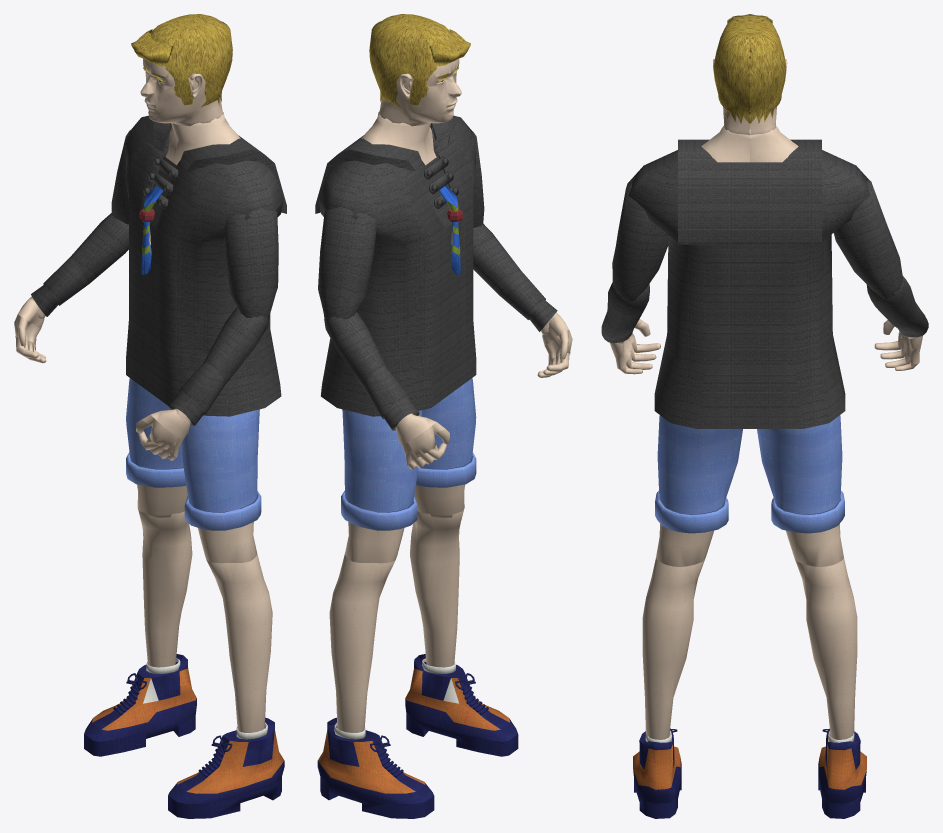
File: boy.obj
3 views of the same model, side by side, from view 1: azimuth 30°, elevation 25°; view 2: azimuth 150°, elevation 25°; view 3: azimuth 270°, elevation 25° (orthographic). The views are drawn at different scales.
Parts seen in each view (by area): view 1: Mesh90 Gruppe_154_2 Group66 Gruppe_31_2 Group55 Group1 Model, Mesh52 Gruppe_35_2 Gruppe_61_2 Group43 Group42 Group1 Model, Mesh54 Gruppe_110_2 Gruppe_60_2 Group42 Group1 Model, Mesh70 Gruppe_136_2 Group42 Group1 Model, Mesh1 Gruppe_35_1 Gruppe_61_1 Group3 Group2 Group1 Model, Mesh19 Gruppe_136_1 Group2 Group1 Model, Mesh77 Gruppe_154_1 Group56 Gruppe_31_1 Group55 Group1 Model, Mesh50 Group41 Gruppe_62_2 Group31 Group1 Model, Mesh39 Gruppe_105_2 Gruppe_30_2 Group26 Group1 Model, Mesh41 Group33 Gruppe_63_2 Group32 Group31 Group1 Model, Mesh20 Group17 Gruppe_63_1 Group16 Group15 Group1 Model, Mesh40 Gruppe_30_2 Group26 Group1 Model (+12 smaller); view 2: Mesh77 Gruppe_154_1 Group56 Gruppe_31_1 Group55 Group1 Model, Mesh1 Gruppe_35_1 Gruppe_61_1 Group3 Group2 Group1 Model, Mesh19 Gruppe_136_1 Group2 Group1 Model, Mesh52 Gruppe_35_2 Gruppe_61_2 Group43 Group42 Group1 Model, Mesh70 Gruppe_136_2 Group42 Group1 Model, Mesh3 Gruppe_110_1 Gruppe_60_1 Group2 Group1 Model, Mesh90 Gruppe_154_2 Group66 Gruppe_31_2 Group55 Group1 Model, Mesh29 Group25 Gruppe_62_1 Group15 Group1 Model, Mesh34 Gruppe_105_1 Gruppe_30_1 Group26 Group1 Model, Mesh20 Group17 Gruppe_63_1 Group16 Group15 Group1 Model, Mesh41 Group33 Gruppe_63_2 Group32 Group31 Group1 Model, Mesh54 Gruppe_110_2 Gruppe_60_2 Group42 Group1 Model (+13 smaller); view 3: Mesh90 Gruppe_154_2 Group66 Gruppe_31_2 Group55 Group1 Model, Mesh77 Gruppe_154_1 Group56 Gruppe_31_1 Group55 Group1 Model, Mesh52 Gruppe_35_2 Gruppe_61_2 Group43 Group42 Group1 Model, Mesh1 Gruppe_35_1 Gruppe_61_1 Group3 Group2 Group1 Model, Mesh78 Gruppe_190_1 Group56 Gruppe_31_1 Group55 Group1 Model, Mesh91 Gruppe_190_2 Group66 Gruppe_31_2 Group55 Group1 Model, Mesh3 Gruppe_110_1 Gruppe_60_1 Group2 Group1 Model, Mesh54 Gruppe_110_2 Gruppe_60_2 Group42 Group1 Model, Mesh29 Group25 Gruppe_62_1 Group15 Group1 Model, Mesh50 Group41 Gruppe_62_2 Group31 Group1 Model, Mesh70 Gruppe_136_2 Group42 Group1 Model, Mesh19 Gruppe_136_1 Group2 Group1 Model (+10 smaller).
Boxes of the visible parts, left/top/right/bottom form: Mesh90 Gruppe_154_2 Group66 Gruppe_31_2 Group55 Group1 Model: left=148, top=160, right=283, bottom=416; Mesh52 Gruppe_35_2 Gruppe_61_2 Group43 Group42 Group1 Model: left=206, top=553, right=272, bottom=732; Mesh54 Gruppe_110_2 Gruppe_60_2 Group42 Group1 Model: left=181, top=409, right=259, bottom=511; Mesh70 Gruppe_136_2 Group42 Group1 Model: left=168, top=717, right=284, bottom=818; Mesh1 Gruppe_35_1 Gruppe_61_1 Group3 Group2 Group1 Model: left=138, top=509, right=192, bottom=667; Mesh19 Gruppe_136_1 Group2 Group1 Model: left=84, top=654, right=196, bottom=756; Mesh77 Gruppe_154_1 Group56 Gruppe_31_1 Group55 Group1 Model: left=125, top=115, right=170, bottom=390; Mesh50 Group41 Gruppe_62_2 Group31 Group1 Model: left=224, top=208, right=278, bottom=318; Mesh39 Gruppe_105_2 Gruppe_30_2 Group26 Group1 Model: left=154, top=18, right=232, bottom=106; Mesh41 Group33 Gruppe_63_2 Group32 Group31 Group1 Model: left=168, top=307, right=269, bottom=425; Mesh20 Group17 Gruppe_63_1 Group16 Group15 Group1 Model: left=31, top=213, right=128, bottom=316; Mesh40 Gruppe_30_2 Group26 Group1 Model: left=141, top=62, right=222, bottom=126; Mesh77 Gruppe_154_1 Group56 Gruppe_31_1 Group55 Group1 Model: left=318, top=160, right=453, bottom=416; Mesh1 Gruppe_35_1 Gruppe_61_1 Group3 Group2 Group1 Model: left=329, top=552, right=395, bottom=732; Mesh19 Gruppe_136_1 Group2 Group1 Model: left=317, top=717, right=434, bottom=818; Mesh52 Gruppe_35_2 Gruppe_61_2 Group43 Group42 Group1 Model: left=410, top=508, right=464, bottom=667; Mesh70 Gruppe_136_2 Group42 Group1 Model: left=405, top=654, right=518, bottom=756; Mesh3 Gruppe_110_1 Gruppe_60_1 Group2 Group1 Model: left=342, top=409, right=422, bottom=511; Mesh90 Gruppe_154_2 Group66 Gruppe_31_2 Group55 Group1 Model: left=431, top=115, right=476, bottom=390; Mesh29 Group25 Gruppe_62_1 Group15 Group1 Model: left=318, top=207, right=376, bottom=319; Mesh34 Gruppe_105_1 Gruppe_30_1 Group26 Group1 Model: left=369, top=18, right=447, bottom=106; Mesh20 Group17 Gruppe_63_1 Group16 Group15 Group1 Model: left=324, top=312, right=419, bottom=430; Mesh41 Group33 Gruppe_63_2 Group32 Group31 Group1 Model: left=473, top=224, right=557, bottom=331; Mesh54 Gruppe_110_2 Gruppe_60_2 Group42 Group1 Model: left=422, top=378, right=476, bottom=468; Mesh90 Gruppe_154_2 Group66 Gruppe_31_2 Group55 Group1 Model: left=628, top=150, right=749, bottom=428; Mesh77 Gruppe_154_1 Group56 Gruppe_31_1 Group55 Group1 Model: left=750, top=150, right=869, bottom=428; Mesh52 Gruppe_35_2 Gruppe_61_2 Group43 Group42 Group1 Model: left=642, top=558, right=705, bottom=739; Mesh1 Gruppe_35_1 Gruppe_61_1 Group3 Group2 Group1 Model: left=794, top=558, right=857, bottom=739; Mesh78 Gruppe_190_1 Group56 Gruppe_31_1 Group55 Group1 Model: left=750, top=139, right=821, bottom=244; Mesh91 Gruppe_190_2 Group66 Gruppe_31_2 Group55 Group1 Model: left=678, top=139, right=749, bottom=244; Mesh3 Gruppe_110_1 Gruppe_60_1 Group2 Group1 Model: left=757, top=415, right=842, bottom=514; Mesh54 Gruppe_110_2 Gruppe_60_2 Group42 Group1 Model: left=657, top=415, right=742, bottom=514; Mesh29 Group25 Gruppe_62_1 Group15 Group1 Model: left=834, top=180, right=902, bottom=298; Mesh50 Group41 Gruppe_62_2 Group31 Group1 Model: left=612, top=181, right=669, bottom=301; Mesh70 Gruppe_136_2 Group42 Group1 Model: left=633, top=728, right=681, bottom=818; Mesh19 Gruppe_136_1 Group2 Group1 Model: left=818, top=728, right=866, bottom=818.
Size of the model in its own units: 0.4232 by 1.79 by 0.6885.
16 materials, 12 textured.
